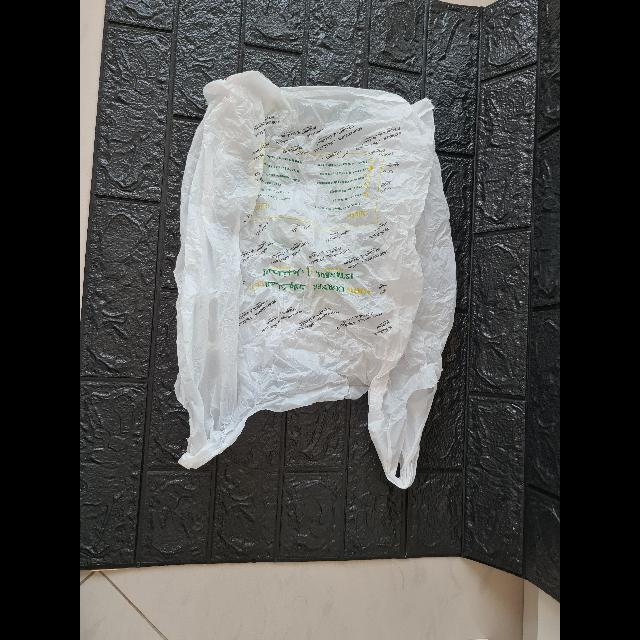plastic_bag: (178, 70, 456, 490)
